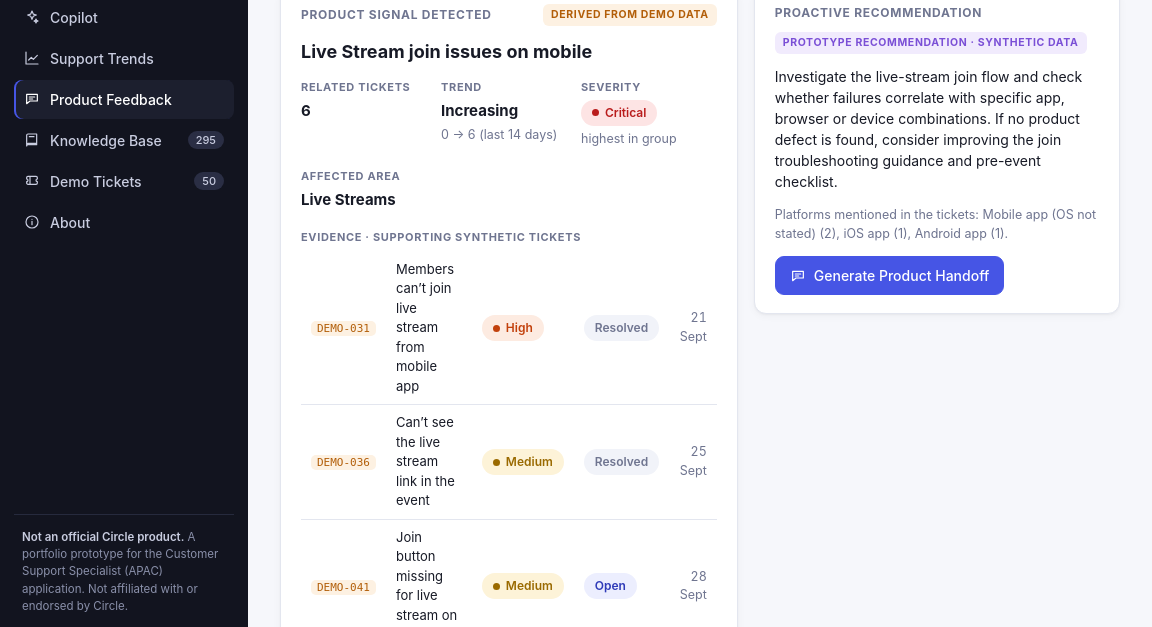
it: Support Trends → Product Feedback workflow › handoff evidence IDs open the corresponding ticket in the Copilot
Later steps or results of the test are not shown.
(page scrolled)
Click the button with test id "generate-handoff": point(890, 276) [775,256,1004,295]
(page scrolled)
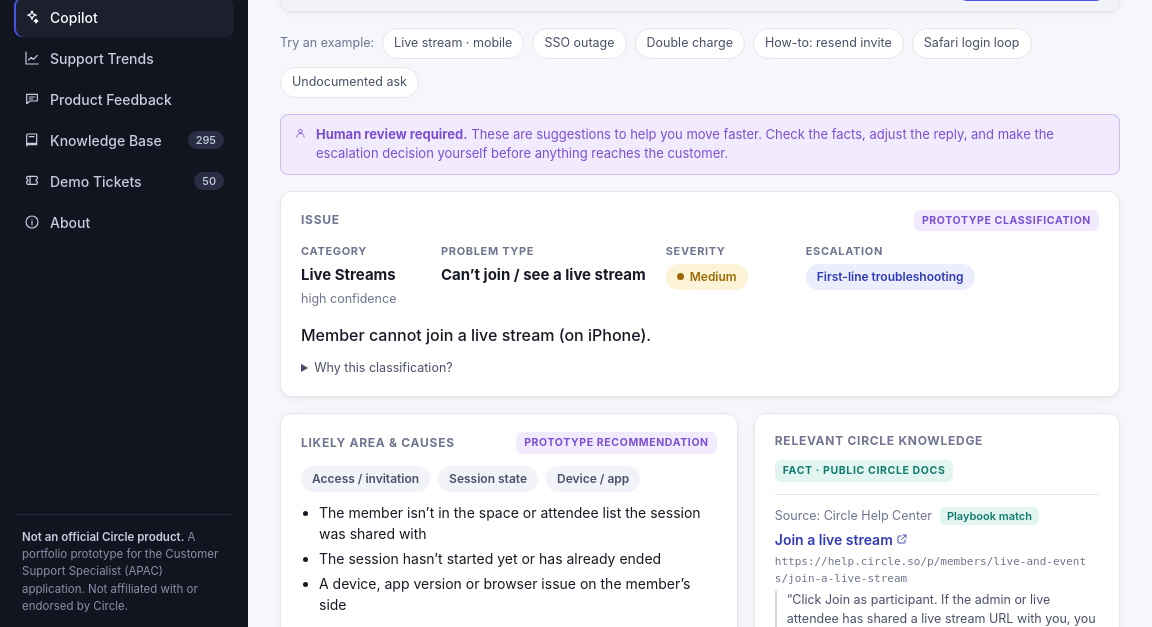
Expected: the text with test id "category" reads "Live Streams", [301,265,396,284]
